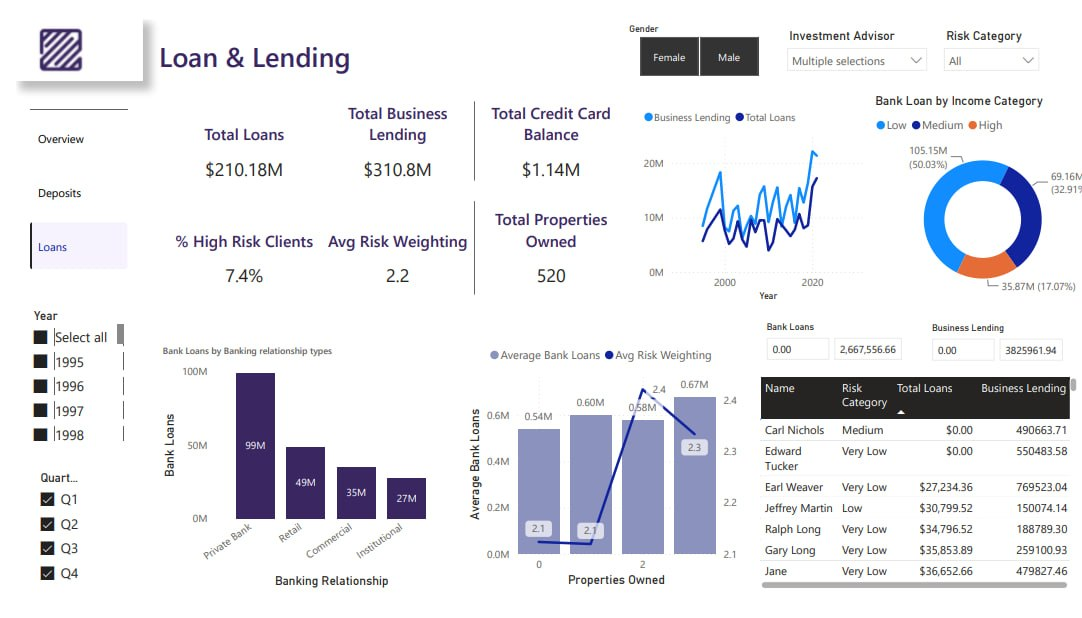

What the dashboard file says about the page in this screenshot:
{"tool":"powerbi","page":{"name":"Loans","canvas":[1280,720],"ordinal":2},"visuals":[{"type":"textbox","box":[150,0,1130,73.3],"z":0},{"type":"shape","box":[0,82.9,150,628.6],"z":1000},{"type":"pageNavigator","box":[15,105,117.5,192.5],"z":2000},{"type":"actionButton","box":[0,153.3,150,40],"z":3000},{"type":"actionButton","box":[5.7,192.9,125.7,40],"z":4000},{"type":"cardVisual","fields":{"Data":["final_data.Total_Loans","final_data.Total Business Lending","final_data.Total Credit Card Balance"]},"box":[167.5,85,570,117.5],"z":5000},{"type":"cardVisual","fields":{"Data":["final_data.% High Risk Clients","final_data.Avg Risk Weighting","final_data.Total Properties Owned"]},"box":[167.5,202.5,570,135],"z":6000},{"type":"donutChart","fields":{"Category":["final_data.IncomeCategory"],"Y":["Sum(final_data.Bank_Loans)"]},"box":[1014,88,264,252],"z":7000},{"type":"clusteredColumnChart","title":"Bank Loans by Banking relationship types","fields":{"Category":["final_data.Banking_Relationship"],"Y":["Sum(final_data.Bank_Loans)"]},"box":[167.5,377.5,350,300],"z":8000},{"type":"tableEx","fields":{"Values":["final_data.Name","final_data.RiskCategory","final_data.Total_Loans","Sum(final_data.Business_Lending)"]},"box":[890,418,390,260],"z":9000},{"type":"slicer","fields":{"Values":["final_data.Investment_Advisor"]},"box":[904,6,186,68],"z":10000},{"type":"lineClusteredColumnComboChart","fields":{"Y":["Avg(final_data.Bank_Loans)"],"Y2":["final_data.Avg Risk Weighting"],"Category":["final_data.Properties_Owned"]},"box":[532,378,328,300],"z":11000},{"type":"slicer","fields":{"Values":["final_data.Gender"]},"box":[714,0,190,74],"z":12000},{"type":"slicer","fields":{"Values":["final_data.RiskCategory"]},"box":[582,14,132,52],"z":13000},{"type":"slicer","fields":{"Values":["DimDate.Year"]},"box":[8.3,338.3,125,166.7],"z":14000},{"type":"slicer","fields":{"Values":["DimDate.Quarter"]},"box":[15.7,530,78.6,147.1],"z":15000},{"type":"lineChart","fields":{"Y":["Sum(final_data.Business_Lending)","final_data.Total_Loans"],"Category":["DimDate.Year"]},"box":[738.3,95,275,243.3],"z":16000},{"type":"slicer","fields":{"Values":["final_data.Bank_Loans"]},"box":[894,354,196,64],"z":17000},{"type":"slicer","fields":{"Values":["final_data.Business_Lending"]},"box":[1090,352,190,66],"z":18000},{"type":"shape","box":[0,0,150,72.5],"z":18001},{"type":"actionButton","box":[15.7,0,84.3,72.9],"z":18002}]}

Visuals, with their boxes in screenshot pixels (x1, y1, x2, y2), scaled from the page's 1280x720 canvas onto the 1082x618 screenshot:
textbox: [127,0,1081,63]
shape: [0,71,127,611]
pageNavigator: [13,90,112,255]
actionButton: [0,132,127,166]
actionButton: [5,166,111,200]
cardVisual - final_data.Total_Loans x final_data.Total Business Lending: [142,73,623,174]
cardVisual - final_data.% High Risk Clients x final_data.Avg Risk Weighting: [142,174,623,290]
donutChart - final_data.IncomeCategory x Sum(final_data.Bank_Loans): [857,76,1080,292]
"Bank Loans by Banking relationship types" clusteredColumnChart: [142,324,437,582]
tableEx - final_data.Name x final_data.RiskCategory: [752,359,1081,582]
slicer - final_data.Investment_Advisor: [764,5,921,64]
lineClusteredColumnComboChart - Avg(final_data.Bank_Loans) x final_data.Avg Risk Weighting: [450,324,727,582]
slicer - final_data.Gender: [604,0,764,64]
slicer - final_data.RiskCategory: [492,12,604,57]
slicer - DimDate.Year: [7,290,113,433]
slicer - DimDate.Quarter: [13,455,80,581]
lineChart - Sum(final_data.Business_Lending) x final_data.Total_Loans: [624,82,857,290]
slicer - final_data.Bank_Loans: [756,304,921,359]
slicer - final_data.Business_Lending: [921,302,1081,359]
shape: [0,0,127,62]
actionButton: [13,0,85,63]
